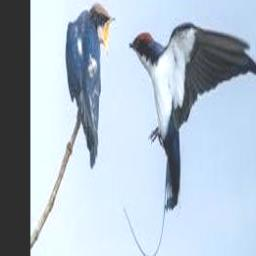Swallow: (128, 21, 256, 210), (66, 1, 115, 167)
